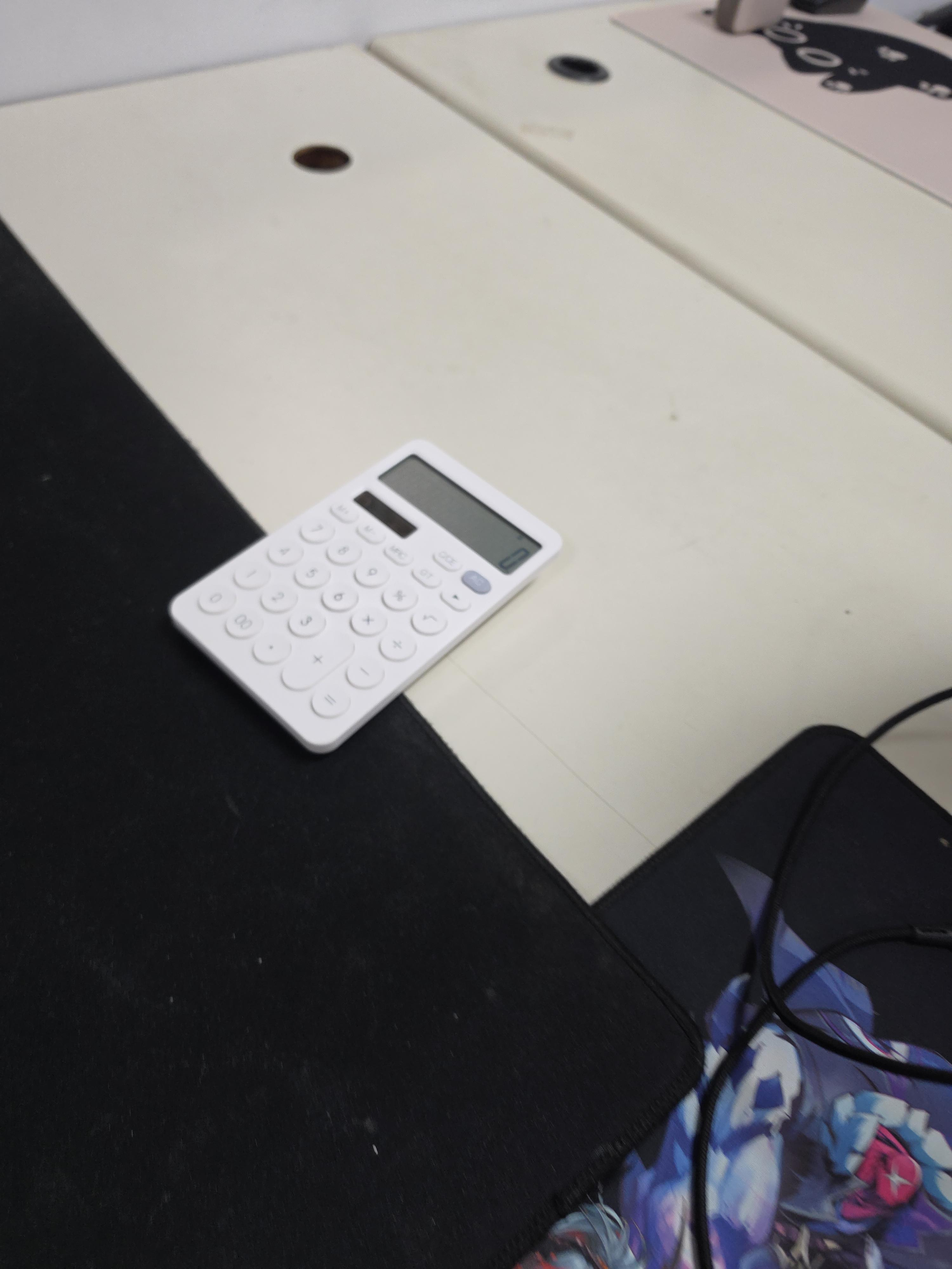calculator: (169, 439, 562, 754)
